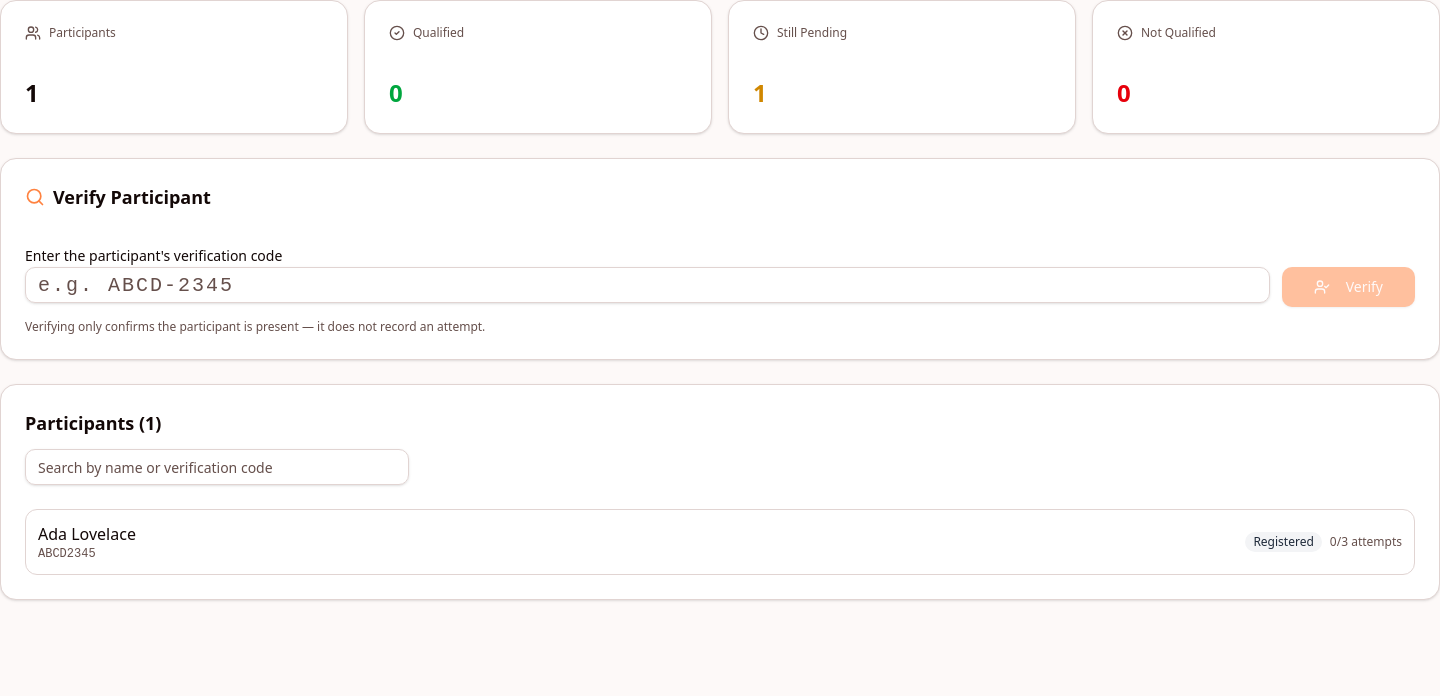
Test: T-REM-3: ParticipantManager remove/ban › surfaces a server ban error (unsafe lifecycle state)
Click the button "Ada Lovelace ABCD2345 Registered 0/3 attempts".
click(87, 534)  # box [25,509,1415,575]
(page scrolled)
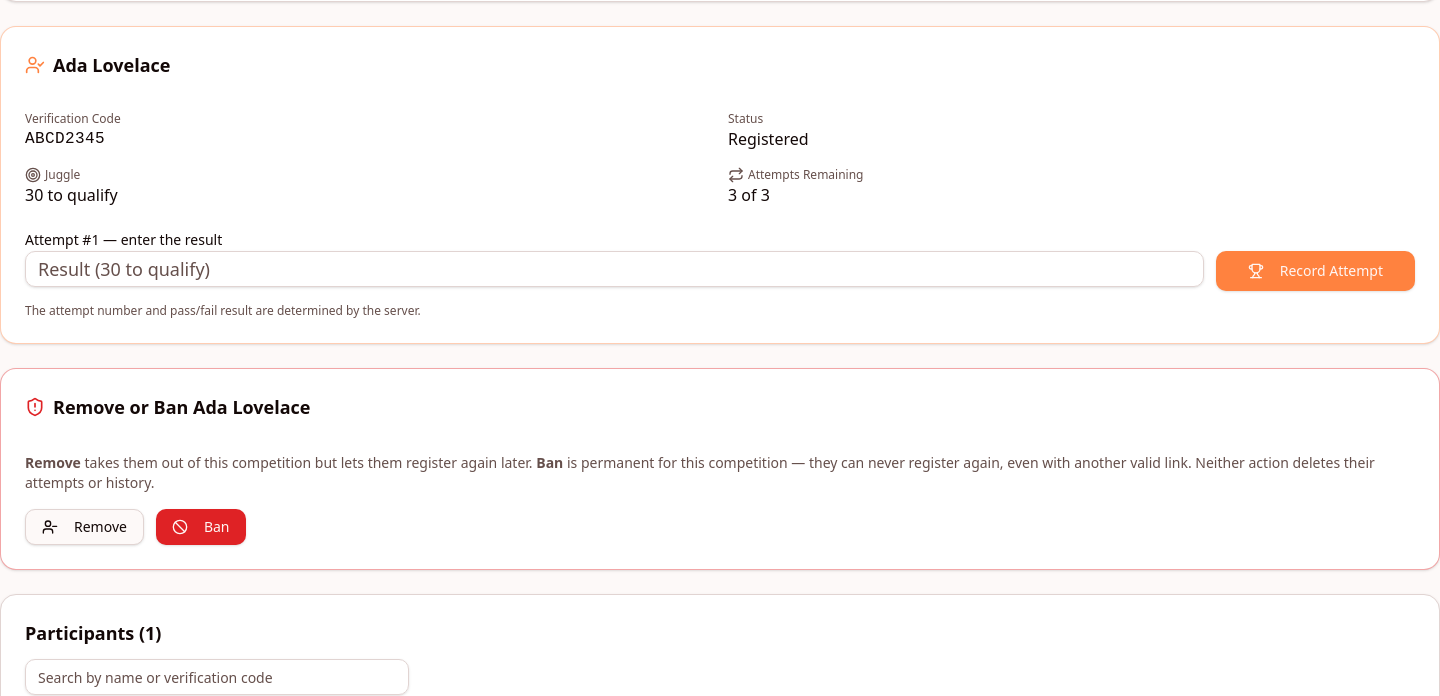
Click the button "Ban".
click(201, 527)  # box [156,509,246,545]
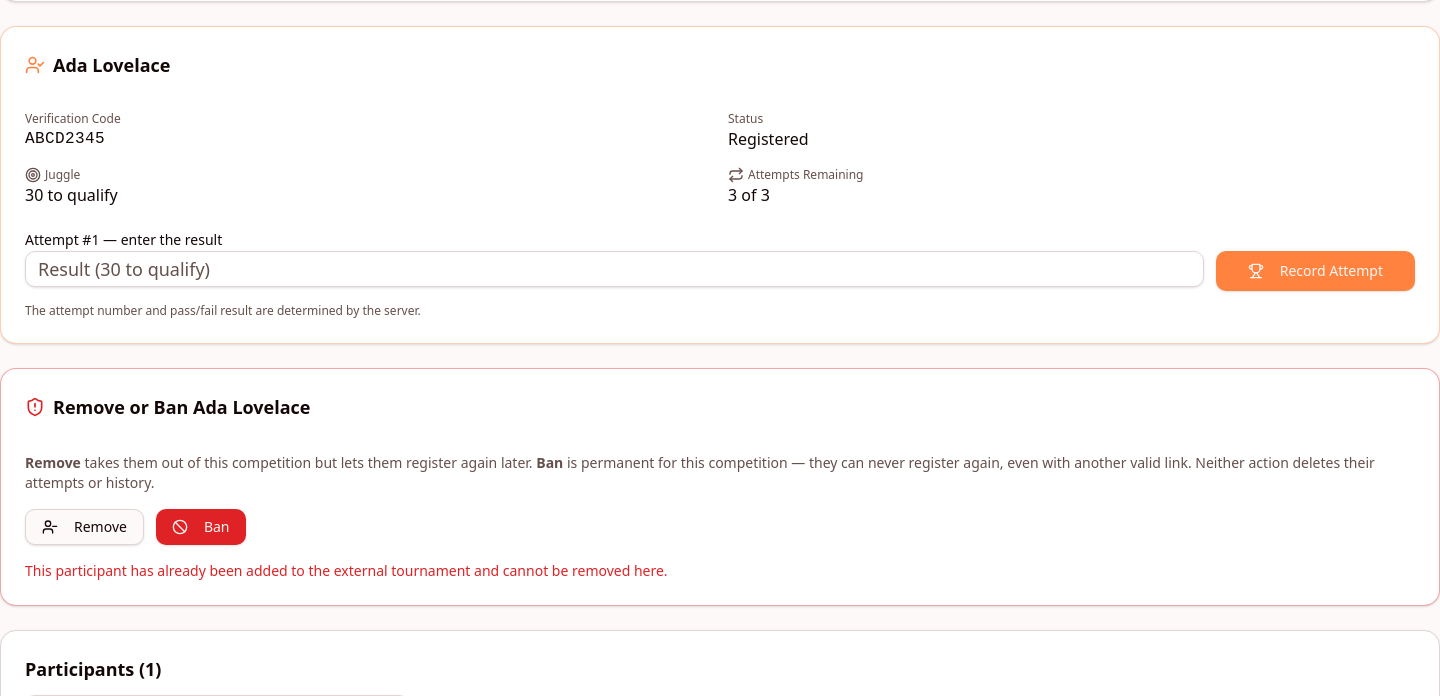
Expected: the text "already been added to the external tournament" is shown, [25,561,668,580]
